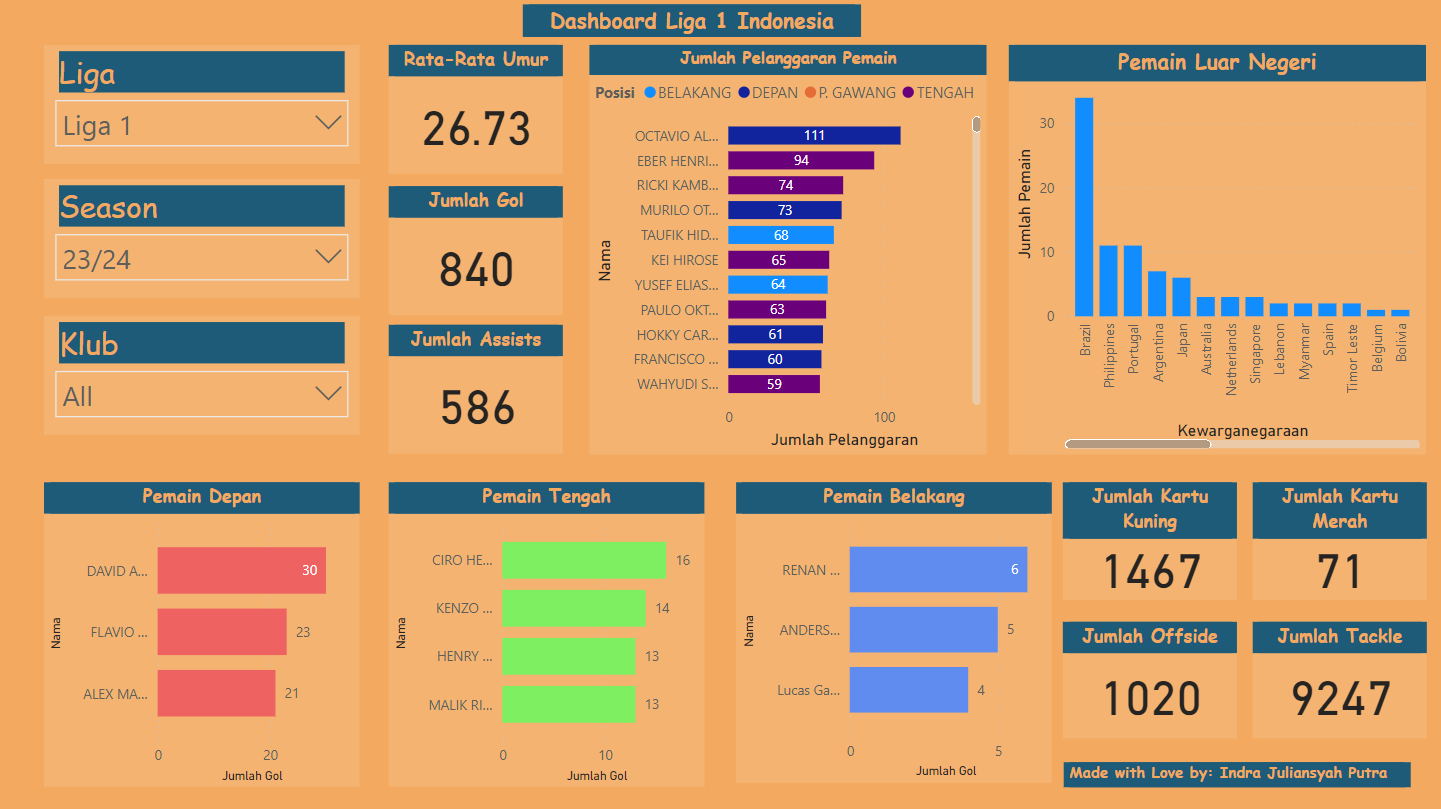

The page's visual inventory and layout, read from the dashboard file:
{"tool":"powerbi","page":{"name":"Page 1","canvas":[1280,720],"ordinal":0},"visuals":[{"type":"slicer","fields":{"Values":["Sheet1.Liga"]},"box":[39.9,40.9,280.1,106],"z":0},{"type":"card","title":"Rata-Rata Umur","fields":{"Values":["Avg(Sheet1.Umur)"]},"box":[345.3,40.9,154.7,114.8],"z":1000},{"type":"slicer","fields":{"Values":["Sheet1.Season"]},"box":[39.9,159.5,280.1,106],"z":2000},{"type":"slicer","fields":{"Values":["Sheet1.Klub"]},"box":[39.9,281.1,280.1,106],"z":3000},{"type":"card","title":"Jumlah Gol","fields":{"Values":["Sum(Sheet1.Jumlah Gol)"]},"box":[345.3,166.3,154.7,114.8],"z":4000},{"type":"card","title":"Jumlah Assists","fields":{"Values":["Sum(Sheet1.Jumlah Assits)"]},"box":[345.3,288.9,154.7,114.8],"z":5000},{"type":"barChart","title":"Jumlah Pelanggaran Pemain","fields":{"Category":["Sheet1.Nama"],"Y":["Sum(Sheet1.Fouls)"],"Series":["Sheet1.Posisi"]},"box":[523.3,40.9,352.1,362.8],"z":6000},{"type":"columnChart","title":"Pemain Luar Negeri","fields":{"Category":["Sheet1.Kewarganegaraan"],"Y":["CountNonNull(Sheet1.Kewarganegaraan)"]},"box":[895.8,40.9,369.6,362.8],"z":7000},{"type":"barChart","title":"Pemain Depan","fields":{"Y":["Sum(Sheet1.Jumlah Gol)"],"Category":["Sheet1.Nama"]},"box":[39.9,428.9,280.1,270.4],"z":8000},{"type":"barChart","title":"Pemain Tengah","fields":{"Y":["Sum(Sheet1.Jumlah Gol)"],"Category":["Sheet1.Nama"]},"box":[345.3,428.9,280.1,270.4],"z":9000},{"type":"barChart","title":"Pemain Belakang","fields":{"Y":["Sum(Sheet1.Jumlah Gol)"],"Category":["Sheet1.Nama"]},"box":[653.6,428.9,280.1,266.5],"z":10000},{"type":"card","title":"Jumlah Tackle","fields":{"Values":["Sum(Sheet1.Jumlah Tackle)"]},"box":[1111.7,552.5,154.7,103.1],"z":11000},{"type":"card","title":"Jumlah Offside","fields":{"Values":["Sum(Sheet1.Offsides)"]},"box":[943.5,552.5,154.7,103.1],"z":12000},{"type":"card","title":"Jumlah Kartu Merah","fields":{"Values":["Sum(Sheet1.Red Cards)"]},"box":[1111.7,428.9,154.7,104.1],"z":13000},{"type":"card","title":"Jumlah Kartu Kuning","fields":{"Values":["Sum(Sheet1.Yellow Cards)"]},"box":[943.5,428.9,154.7,104.1],"z":14000},{"type":"textbox","title":"Dashboard Liga 1 Indonesia","box":[464.9,4.9,299.6,29.2],"z":15000},{"type":"textbox","title":"Made with Love by:  Indra Juliansyah Putra","box":[944.4,677,307.4,22.4],"z":16000}]}

Visuals, with their boxes in screenshot pixels (x1, y1, x2, y2), scaled from the page's 1280x720 canvas onto the 1441x809 screenshot:
slicer - Sheet1.Liga: detection(45, 46, 360, 165)
"Rata-Rata Umur" card: detection(389, 46, 563, 175)
slicer - Sheet1.Season: detection(45, 179, 360, 298)
slicer - Sheet1.Klub: detection(45, 316, 360, 435)
"Jumlah Gol" card: detection(389, 187, 563, 316)
"Jumlah Assists" card: detection(389, 325, 563, 454)
"Jumlah Pelanggaran Pemain" barChart: detection(589, 46, 986, 454)
"Pemain Luar Negeri" columnChart: detection(1008, 46, 1425, 454)
"Pemain Depan" barChart: detection(45, 482, 360, 786)
"Pemain Tengah" barChart: detection(389, 482, 704, 786)
"Pemain Belakang" barChart: detection(736, 482, 1051, 781)
"Jumlah Tackle" card: detection(1252, 621, 1426, 737)
"Jumlah Offside" card: detection(1062, 621, 1236, 737)
"Jumlah Kartu Merah" card: detection(1252, 482, 1426, 599)
"Jumlah Kartu Kuning" card: detection(1062, 482, 1236, 599)
"Dashboard Liga 1 Indonesia" textbox: detection(523, 6, 861, 38)
"Made with Love by:  Indra Juliansyah Putra" textbox: detection(1063, 761, 1409, 786)
